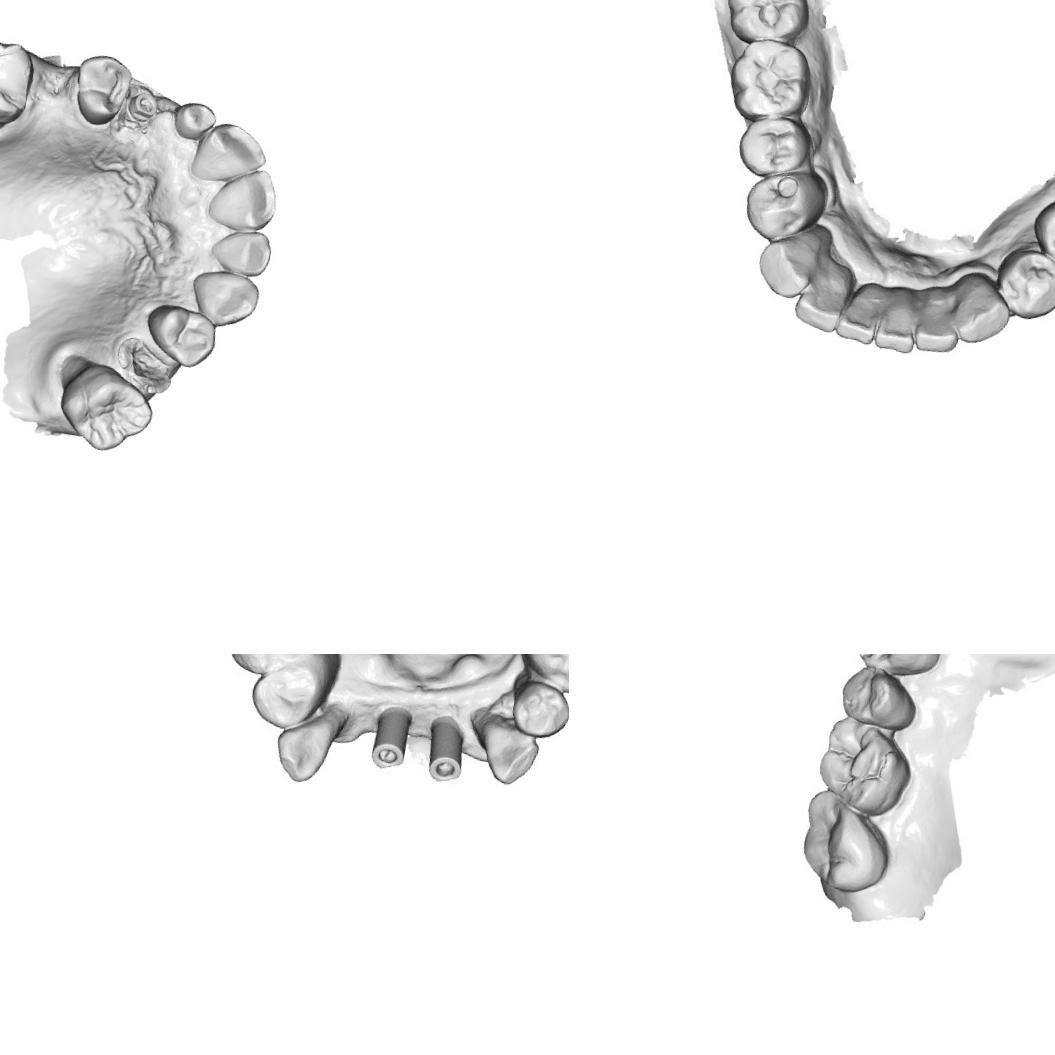canine: (464, 707, 550, 788), (748, 219, 829, 304), (266, 708, 344, 790), (184, 263, 264, 333), (948, 270, 1015, 350)
implant: (421, 714, 472, 781), (368, 704, 414, 769), (122, 87, 162, 128)
incisor: (185, 116, 273, 192), (204, 160, 284, 237), (908, 284, 968, 354), (799, 256, 857, 328), (205, 222, 274, 280), (876, 280, 924, 352), (839, 274, 888, 344), (169, 95, 220, 144)
molar: (787, 789, 894, 901), (810, 712, 924, 816), (52, 356, 160, 460), (728, 31, 810, 127), (721, 0, 812, 47), (0, 31, 38, 130)
premolar: (738, 156, 832, 246), (732, 108, 820, 187), (834, 661, 922, 734), (245, 654, 323, 736), (139, 298, 220, 372), (67, 49, 137, 131), (993, 242, 1055, 326), (509, 681, 569, 743), (853, 654, 951, 682), (1028, 190, 1055, 274), (522, 654, 569, 697), (227, 654, 307, 677)
